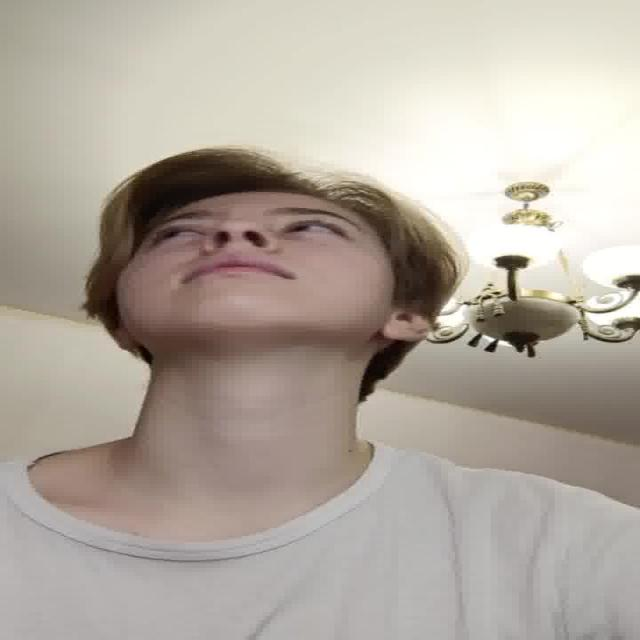earlobe: (378, 326, 419, 341), (115, 332, 145, 351)
eye: (282, 221, 344, 239), (148, 227, 206, 242)
nose: (201, 242, 276, 260)
wholeear: (380, 309, 430, 341)
